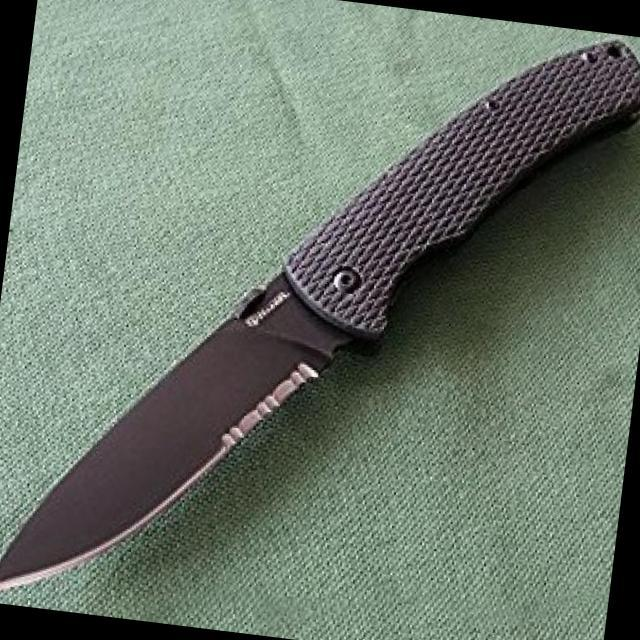Knife: (0, 225, 367, 635)
